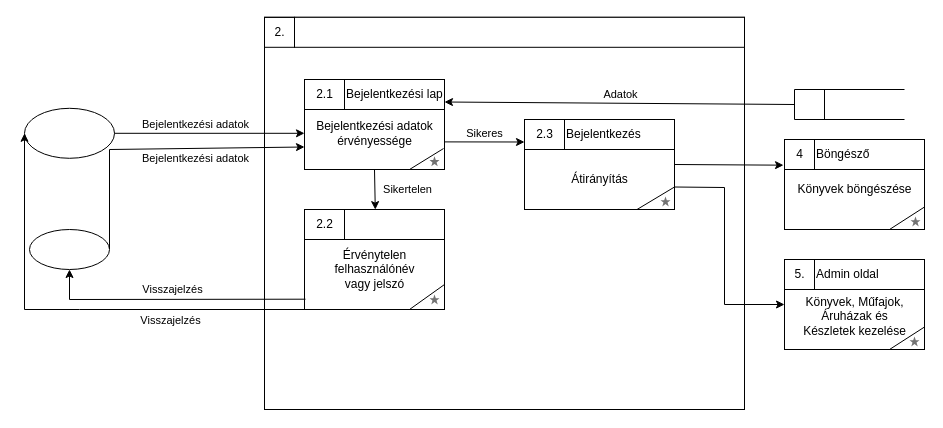
Some shapes in this 943 by 428 pixel diagram are drawn without their labels. Each missing label, with the box of its shape:
Admin: (28, 228, 110, 270)
Bejelentkezési oldal: (294, 16, 744, 47)
D2 Felhasználók: (794, 88, 904, 120)
Hibaüzenet: (344, 208, 444, 240)
Látogató: (24, 107, 114, 158)
